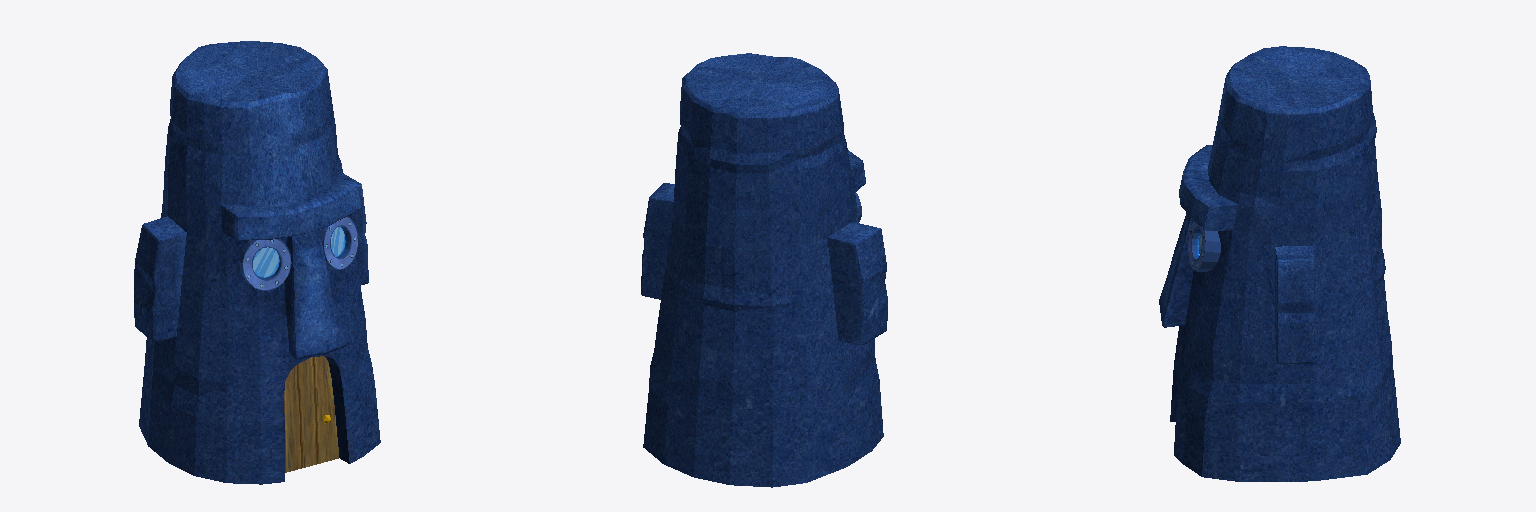
3 renders of one model, left to right at view 1: azimuth 30°, elevation 25°; view 2: azimuth 150°, elevation 25°; view 3: azimuth 270°, elevation 25°, orthographic.
Visible parts, largest first — view 1: MSH_SquidwardHouse; view 2: MSH_SquidwardHouse; view 3: MSH_SquidwardHouse.
Boxes of the visible parts, box(x1,y1,x2,y2) form: MSH_SquidwardHouse: box(134, 41, 380, 484); MSH_SquidwardHouse: box(641, 53, 887, 487); MSH_SquidwardHouse: box(1159, 46, 1400, 481).
Bounding box in the file's own units: 10.13 × 15.58 × 9.46.
1 materials, 1 textured.